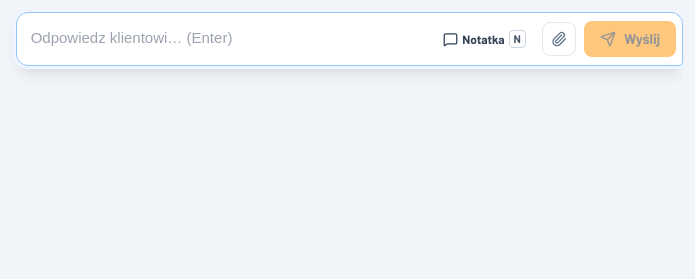
Test case: pusty edytor to jedna linijka › pierwsza litera rozwija edytor, a pole zostaje tym samym elementem z kursorem
The image size is (695, 279).
Click the text box named "Szkic odpowiedzi" at {"x": 229, "y": 39}, box [31, 19, 427, 59]
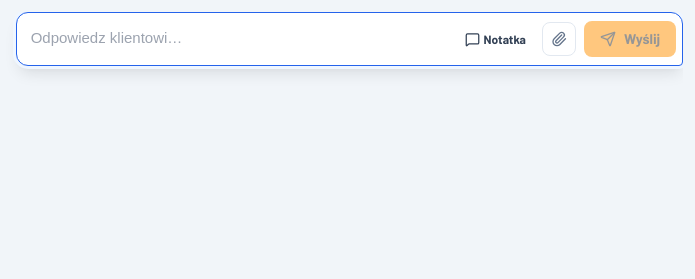
Type keys "Dzień dobry"
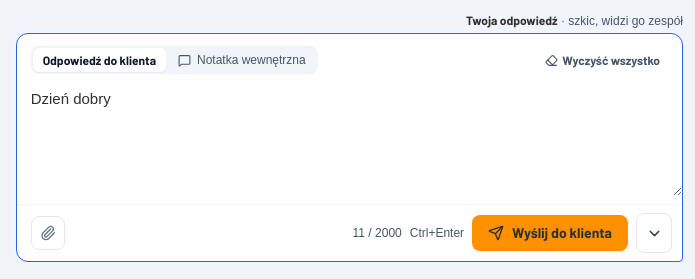
Expected: the text box named "Szkic odpowiedzi" holds "Dzień dobry", [17, 76, 682, 196]
Expected: the button "Odpowiedź do klienta" is shown, [33, 48, 166, 72]
Expected: the element named "Działania odpowiedzi" is shown, [17, 204, 682, 261]
